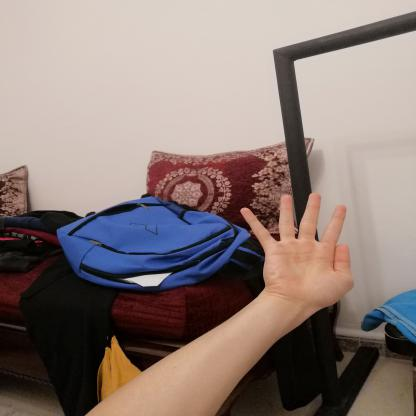SHEEN: (229, 188, 361, 316)
